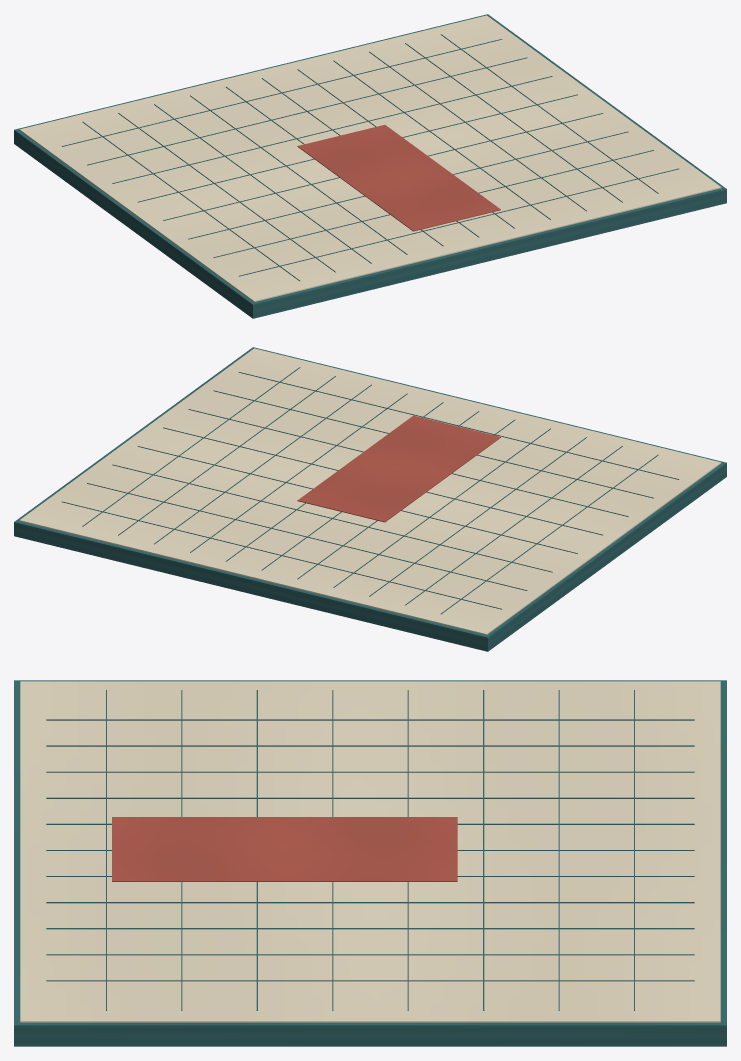
Rendered from atlas100-s036-a07.glb.
3 views of the same model, one above another, from view 1: azimuth 30°, elevation 25°; view 2: azimuth 150°, elevation 25°; view 3: azimuth 270°, elevation 25° (orthographic). The views are drawn at different scales.
Parts seen in each view (by area): view 1: atlas100-s036-a07:part-001, atlas100-s036-a07:part-000, atlas100-s036-a07:part-021, atlas100-s036-a07:part-020, atlas100-s036-a07:part-013, atlas100-s036-a07:part-014, atlas100-s036-a07:part-015, atlas100-s036-a07:part-018, atlas100-s036-a07:part-017, atlas100-s036-a07:part-019, atlas100-s036-a07:part-016; view 2: atlas100-s036-a07:part-001, atlas100-s036-a07:part-000, atlas100-s036-a07:part-021, atlas100-s036-a07:part-015, atlas100-s036-a07:part-013, atlas100-s036-a07:part-020, atlas100-s036-a07:part-014, atlas100-s036-a07:part-016, atlas100-s036-a07:part-017, atlas100-s036-a07:part-018, atlas100-s036-a07:part-019; view 3: atlas100-s036-a07:part-001, atlas100-s036-a07:part-000, atlas100-s036-a07:part-021, atlas100-s036-a07:part-002, atlas100-s036-a07:part-003, atlas100-s036-a07:part-005, atlas100-s036-a07:part-004, atlas100-s036-a07:part-009, atlas100-s036-a07:part-010, atlas100-s036-a07:part-011, atlas100-s036-a07:part-012, atlas100-s036-a07:part-014 (+2 smaller).
Boxes of the visible parts, left/top/right/bottom form: atlas100-s036-a07:part-001: left=19, top=15, right=721, bottom=301; atlas100-s036-a07:part-000: left=14, top=14, right=726, bottom=318; atlas100-s036-a07:part-021: left=297, top=124, right=500, bottom=231; atlas100-s036-a07:part-020: left=239, top=168, right=678, bottom=276; atlas100-s036-a07:part-013: left=62, top=39, right=502, bottom=146; atlas100-s036-a07:part-014: left=87, top=57, right=527, bottom=165; atlas100-s036-a07:part-015: left=112, top=76, right=552, bottom=183; atlas100-s036-a07:part-018: left=188, top=131, right=628, bottom=239; atlas100-s036-a07:part-017: left=163, top=113, right=603, bottom=220; atlas100-s036-a07:part-019: left=213, top=150, right=653, bottom=257; atlas100-s036-a07:part-016: left=138, top=94, right=577, bottom=202; atlas100-s036-a07:part-001: left=19, top=348, right=721, bottom=634; atlas100-s036-a07:part-000: left=14, top=347, right=726, bottom=651; atlas100-s036-a07:part-021: left=297, top=415, right=500, bottom=522; atlas100-s036-a07:part-015: left=112, top=464, right=552, bottom=572; atlas100-s036-a07:part-013: left=62, top=501, right=501, bottom=609; atlas100-s036-a07:part-020: left=238, top=372, right=678, bottom=479; atlas100-s036-a07:part-014: left=87, top=483, right=527, bottom=590; atlas100-s036-a07:part-016: left=137, top=446, right=577, bottom=553; atlas100-s036-a07:part-017: left=163, top=427, right=602, bottom=535; atlas100-s036-a07:part-018: left=188, top=409, right=628, bottom=516; atlas100-s036-a07:part-019: left=213, top=390, right=653, bottom=498; atlas100-s036-a07:part-001: left=20, top=681, right=720, bottom=1022; atlas100-s036-a07:part-000: left=14, top=680, right=726, bottom=1046; atlas100-s036-a07:part-021: left=112, top=817, right=457, bottom=881; atlas100-s036-a07:part-002: left=46, top=719, right=694, bottom=720; atlas100-s036-a07:part-003: left=46, top=745, right=694, bottom=746; atlas100-s036-a07:part-005: left=46, top=797, right=694, bottom=798; atlas100-s036-a07:part-004: left=46, top=771, right=694, bottom=772; atlas100-s036-a07:part-009: left=46, top=902, right=694, bottom=903; atlas100-s036-a07:part-010: left=46, top=928, right=694, bottom=929; atlas100-s036-a07:part-011: left=46, top=954, right=694, bottom=955; atlas100-s036-a07:part-012: left=46, top=980, right=694, bottom=981; atlas100-s036-a07:part-014: left=558, top=690, right=559, bottom=1010.
Bounding box in the file's own units: 11.9 × 0.404 × 10.4.
Materials: 3 (3 with a texture image).
